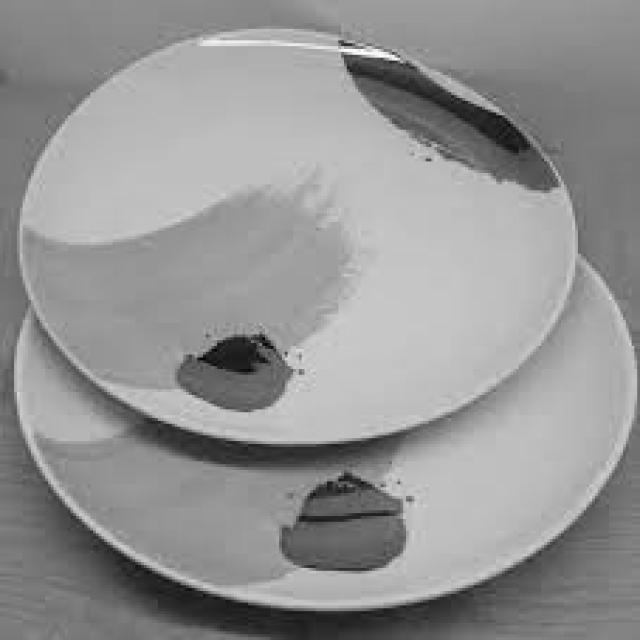dish: (6, 19, 620, 468)
